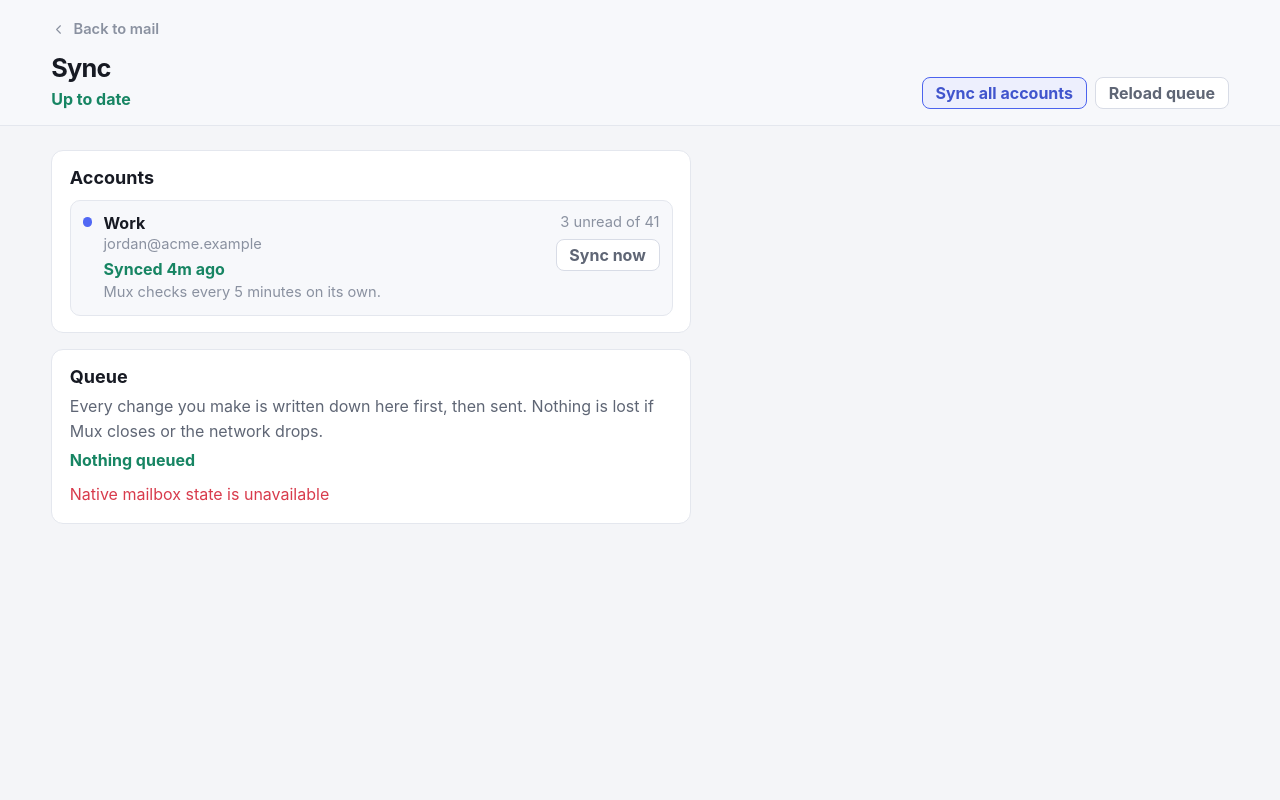
Test: sync status screen › a journal that cannot be read says so and offers to try again
The width and height of the screenshot is (1280, 800).
Expected: the message with test id "queue-error" reads "Native mailbox state is unavailable", [70, 484, 329, 504]
Click the button with test id "reload-queue": click(1162, 93) [1095, 77, 1229, 109]
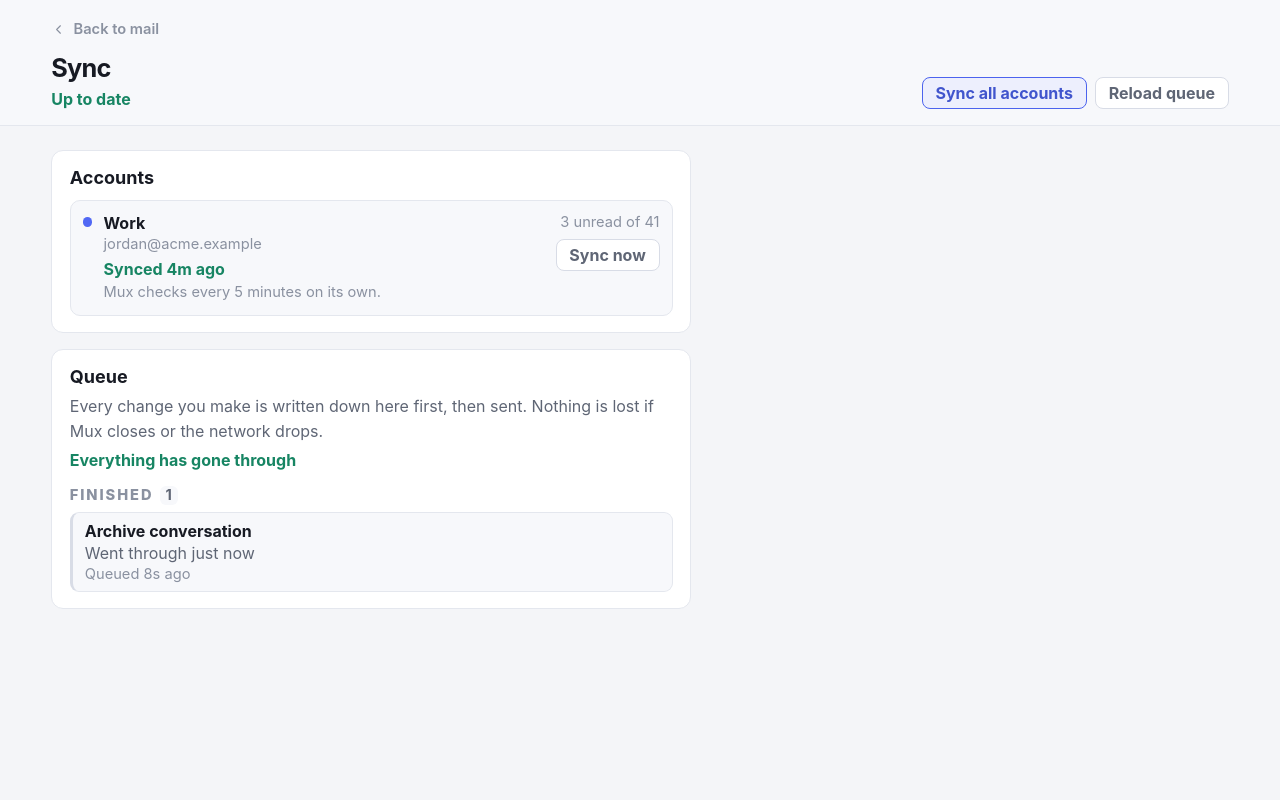
Expected: the message with test id "queue-error" is gone
Expected: the list item with test id "queue-entry" is shown, [70, 512, 673, 592]
